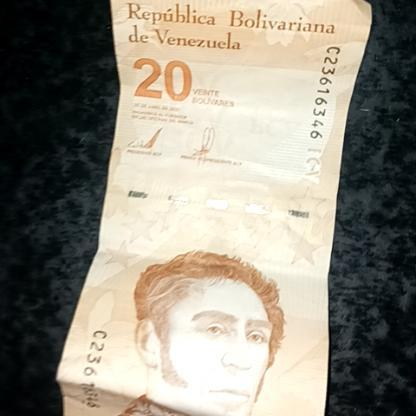twenty-front-vef: (50, 4, 366, 416)
